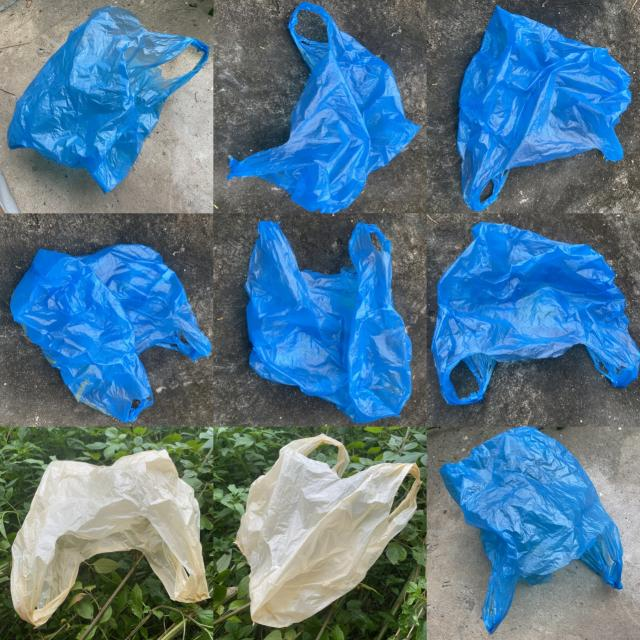Single-layer Plastic: (228, 2, 419, 212), (431, 222, 640, 405), (8, 6, 209, 192), (440, 428, 622, 633), (236, 434, 421, 628), (458, 6, 631, 211), (11, 245, 211, 422), (11, 450, 209, 626), (245, 221, 411, 422)
